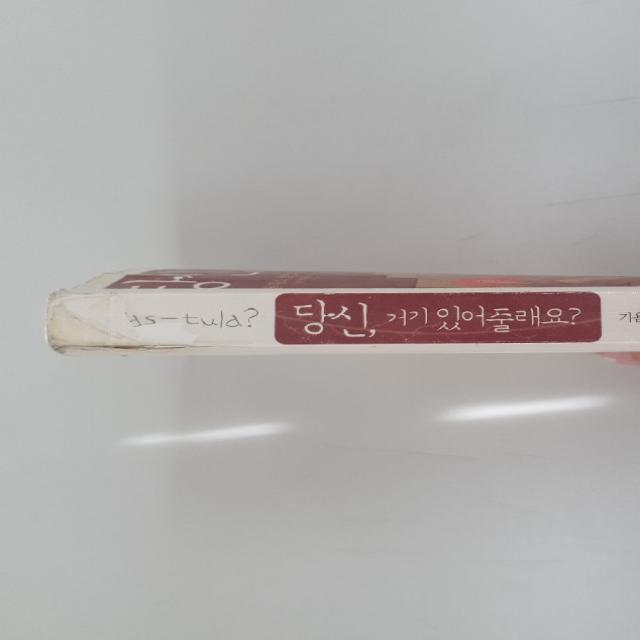Ripped: (42, 317, 213, 357), (41, 275, 131, 316)
Wornout: (317, 282, 342, 299)
